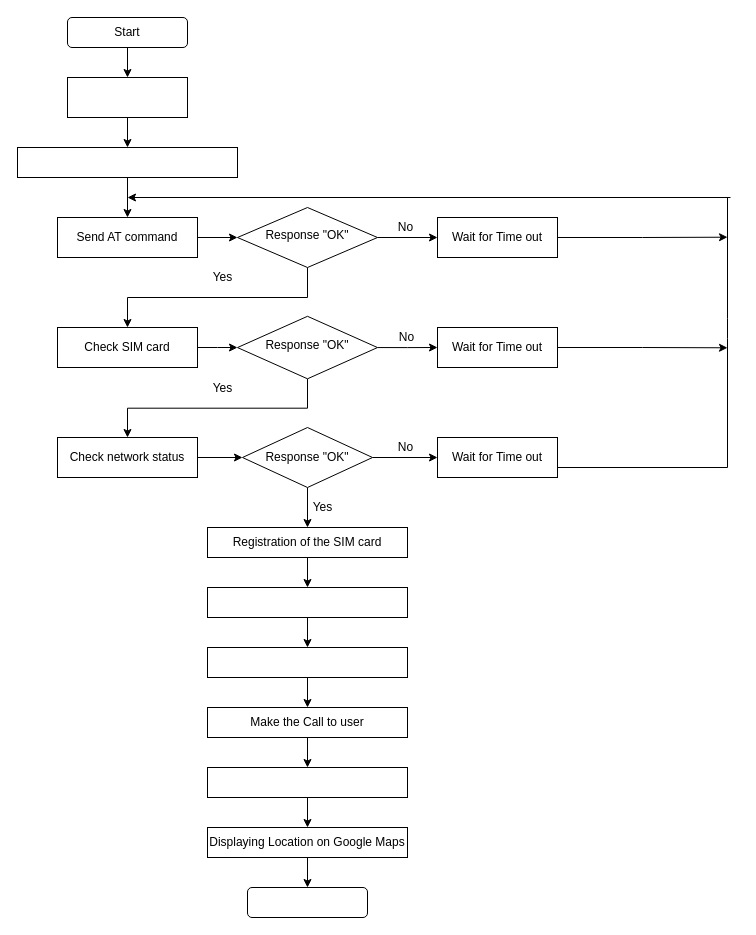
This 756x935 diagram has some shape labels left out. Each missing label, with the box of its shape:
Define: Rx, Tx, baudrate of modulesim: (16, 146, 238, 178)
End: (246, 886, 368, 918)
Getting GPS information: (206, 646, 408, 678)
Include the libraries: (66, 76, 188, 118)
Sending SMS to user: (206, 766, 408, 798)
User request for Location: (206, 586, 408, 618)
